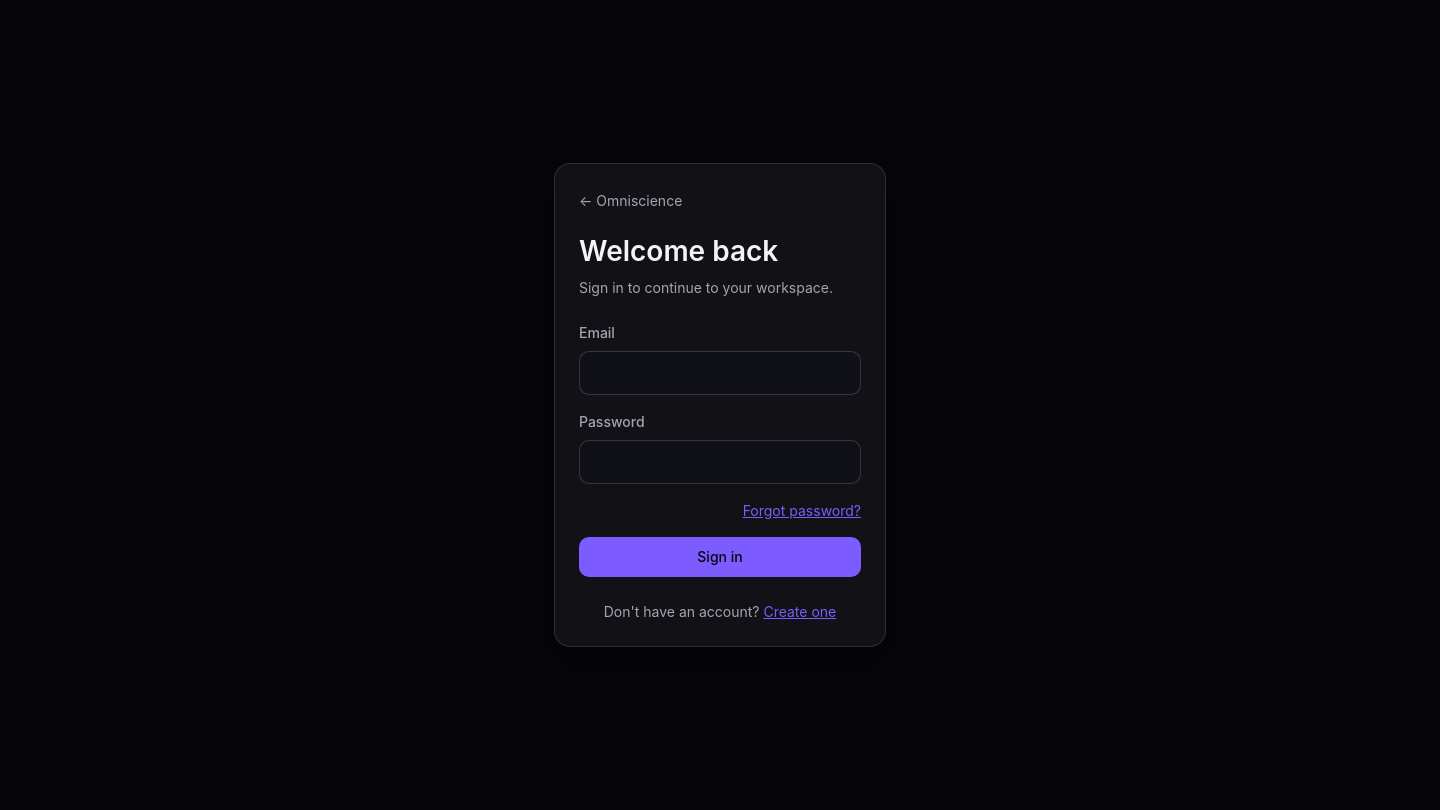
LoginPage › shows an error message for invalid credentials and does not navigate
Type "person@example.com" into the field labelled "Email" at (720, 373), box x1=579 y1=351 x2=861 y2=395
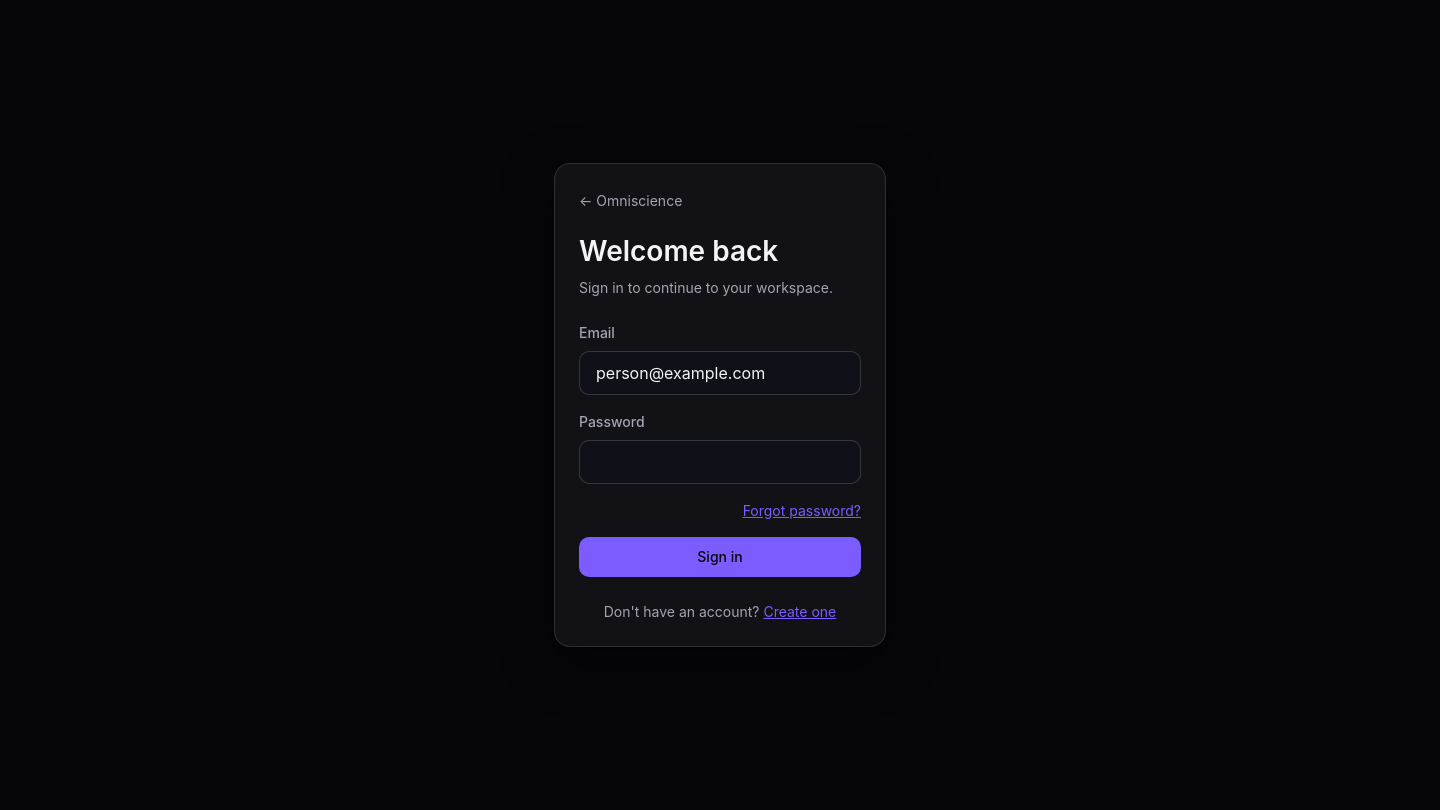
Type "hunter2-Secret!" into the password field labelled "Password" at (720, 462), box x1=579 y1=440 x2=861 y2=484
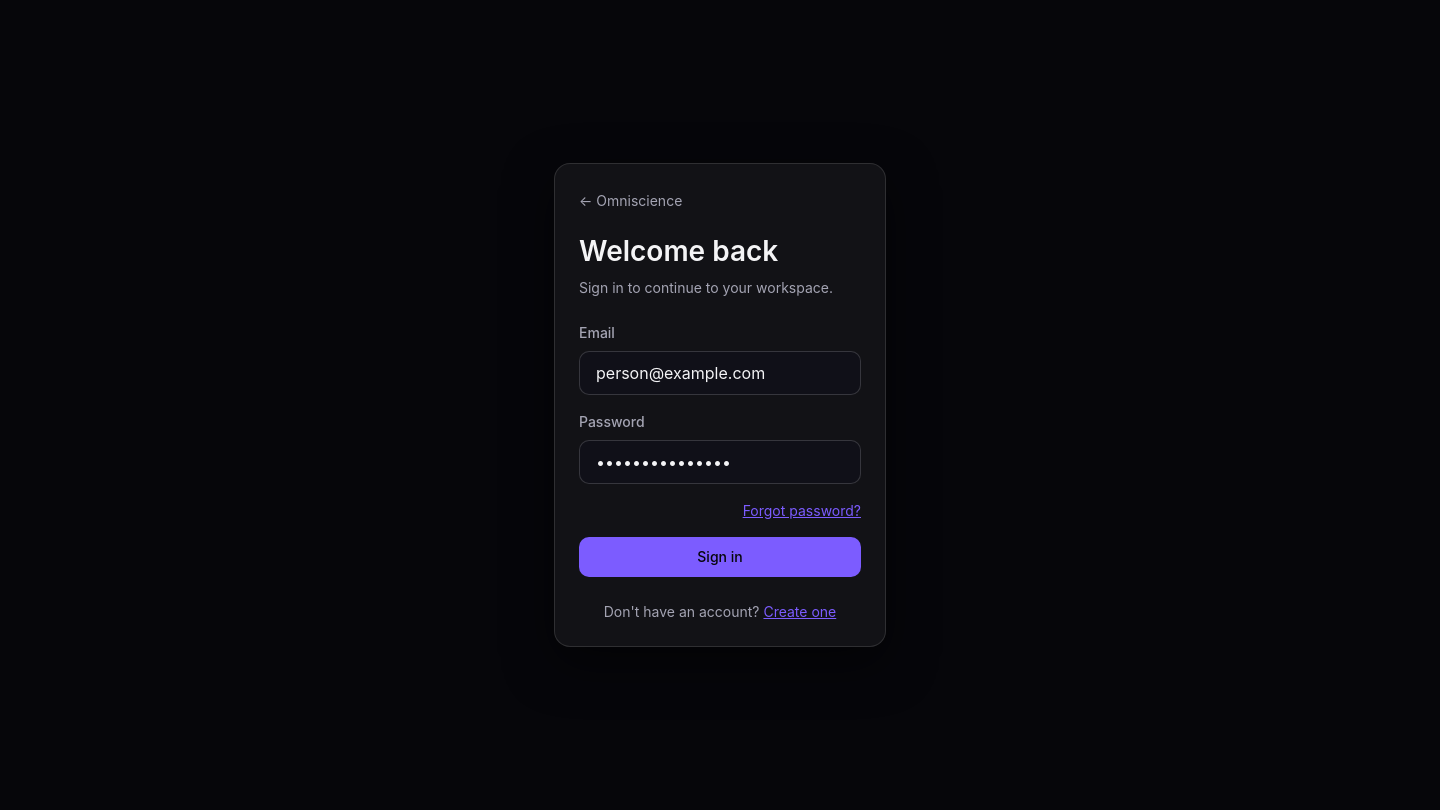
Submit the form "Sign in", box x1=579 y1=322 x2=861 y2=577
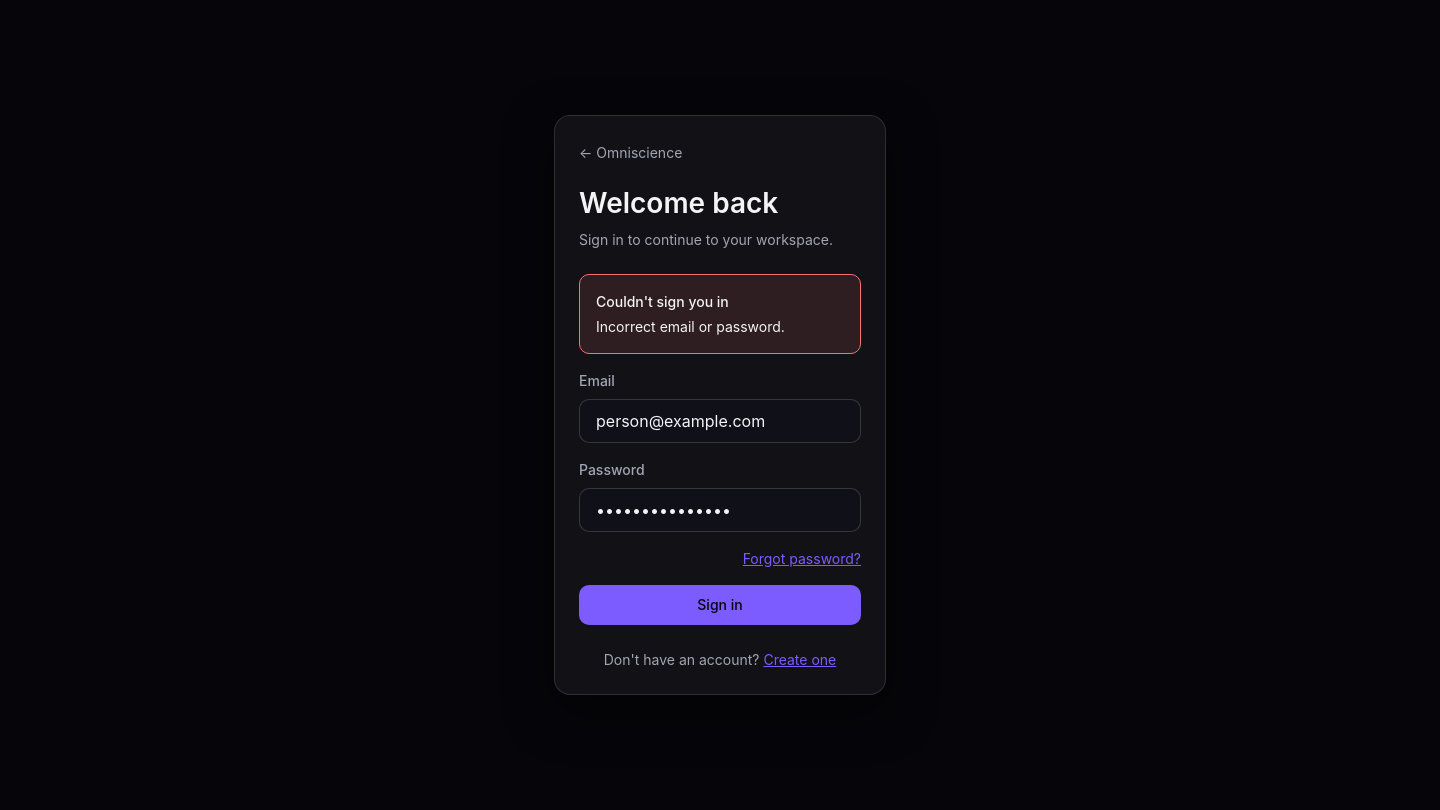
Result: the text "Incorrect email or password." is shown at x1=596 y1=318 x2=785 y2=335
